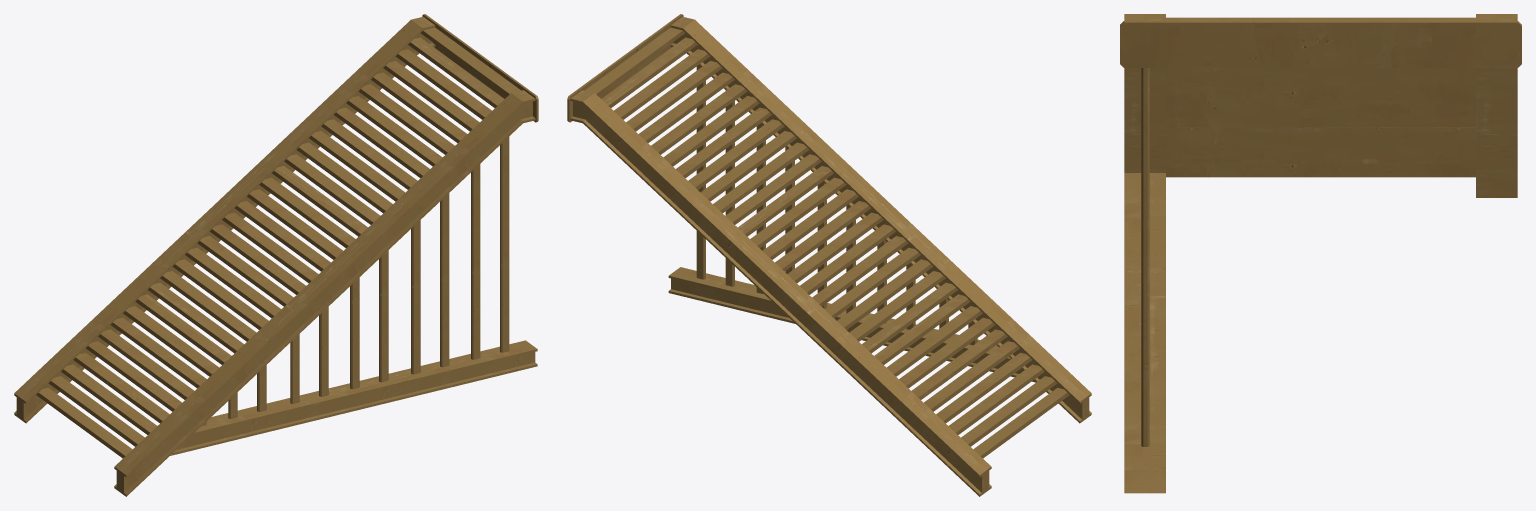
3 views of the same model, side by side, from view 1: azimuth 30°, elevation 25°; view 2: azimuth 150°, elevation 25°; view 3: azimuth 270°, elevation 25° (orthographic). The views are drawn at different scales.
Parts seen in each view (by area): view 1: body0_model0_lod0_mesh0; view 2: body0_model0_lod0_mesh0; view 3: body0_model0_lod0_mesh0.
Boxes of the visible parts, <box> form: body0_model0_lod0_mesh0: <box>14,14,538,496</box>; body0_model0_lod0_mesh0: <box>567,14,1091,496</box>; body0_model0_lod0_mesh0: <box>1120,14,1521,493</box>.
Bounding box in the file's own units: 398 × 278 × 192.
Materials: 2 (1 with a texture image).
